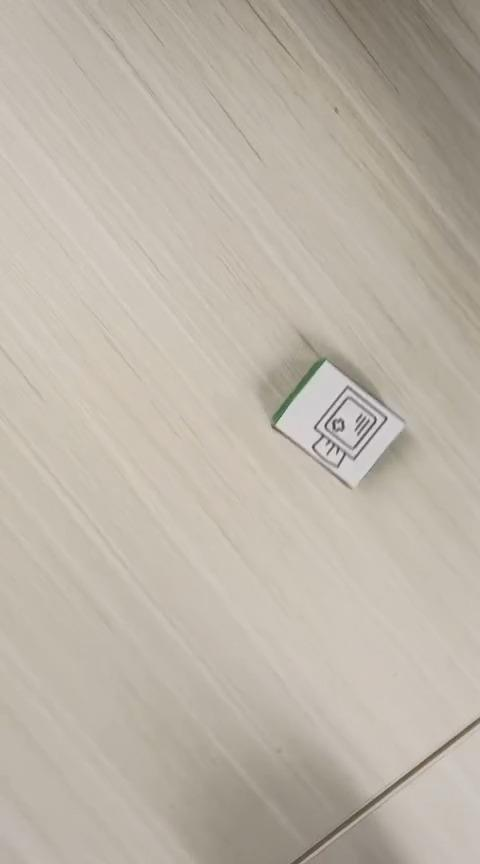Gauze: (269, 356, 405, 490)
